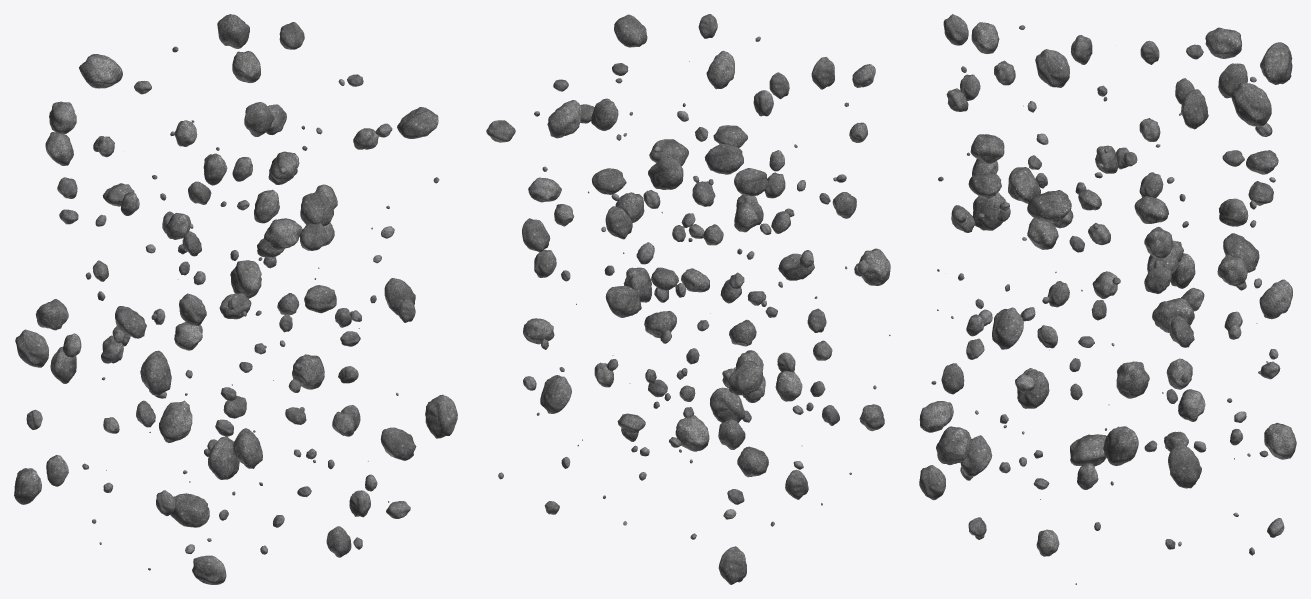
The model's file is meteor2.fbx.
3 renders of one model, left to right at view 1: azimuth 30°, elevation 25°; view 2: azimuth 150°, elevation 25°; view 3: azimuth 270°, elevation 25°, orthographic. The views are drawn at different scales.
Visible parts, largest first — view 1: Sphere.024; view 2: Sphere.024; view 3: Sphere.024.
Boxes of the visible parts, x1,y1,x2,y2 form: Sphere.024: (14, 14, 457, 584); Sphere.024: (486, 14, 890, 584); Sphere.024: (919, 14, 1296, 584).
Bounding box in the file's own units: 1271 × 1836 × 1331.
